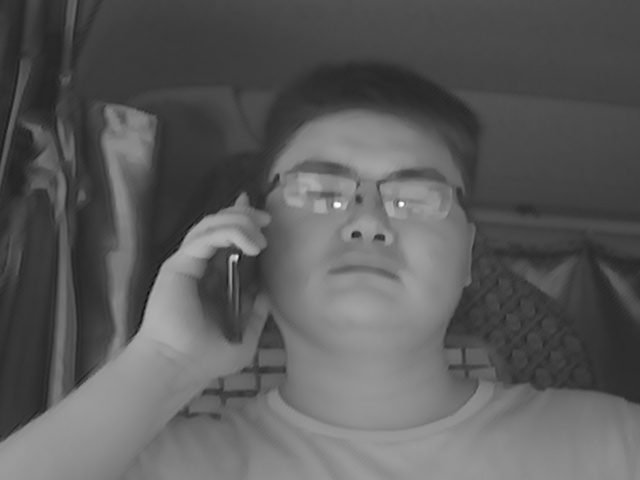hand: (156, 203, 266, 383)
